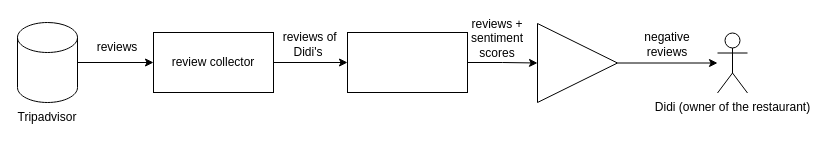
Some shapes in this 827 by 150 pixel diagram are drawn without their labels. Here are the shapes that lost their labels. From the top down, the centre of each, then its label:
At [407,62]: "sentiment classifier".
At [577,62]: "filter positives".
